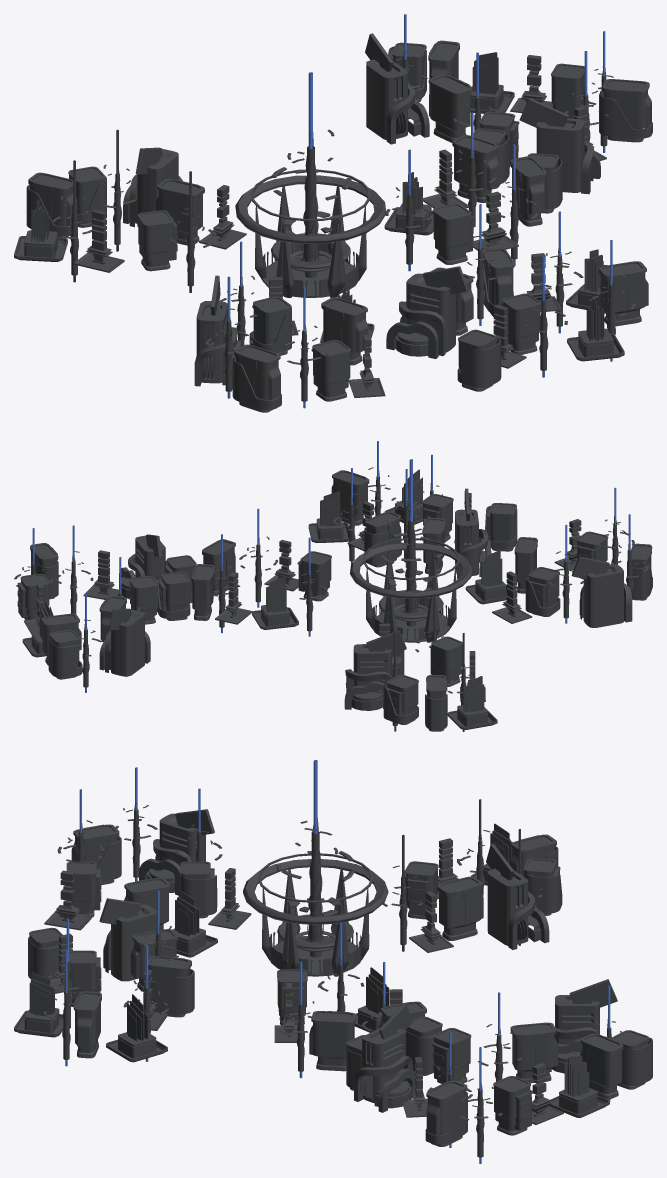
The picture shows the model from 3 angles, top to bottom: view 1: azimuth 30°, elevation 25°; view 2: azimuth 150°, elevation 25°; view 3: azimuth 270°, elevation 25°; orthographic projection. The views are drawn at different scales.
Visible parts, largest first — view 1: pasted__polySurface22 (×12), polySurface21 (×10), pCube4 (×5), building_6_low (×5), _outside_crcele, pasted__polySurface21 (×3), pasted__polySurface23 (×3), polySurface7 (×3), building_5, building_12, pCube5 (×2), building_15 (+13 smaller); view 2: polySurface21 (×12), pasted__polySurface22 (×11), pCube4 (×5), pasted__polySurface21 (×4), _outside_crcele, pasted__polySurface23 (×3), building_6_low (×3), building_12, building_14, building_13, building_11, pCube5 (×2) (+13 smaller); view 3: pasted__polySurface22 (×11), pCube4 (×5), polySurface21 (×8), pasted__polySurface23 (×5), building_6_low (×4), _outside_crcele, pCube5 (×4), pasted__polySurface21 (×3), polySurface22 (×3), building_15, building_5, building_13 (+15 smaller).
Part boxes in pixels (x1,y1,x2,y2): pasted__polySurface22 (×12): (28,40,651,412); polySurface21 (×10): (68,42,584,401); pCube4 (×5): (137,59,584,383); building_6_low (×5): (199,55,561,397); _outside_crcele: (235,175,386,244); pasted__polySurface21 (×3): (26,90,652,409); pasted__polySurface23 (×3): (249,158,562,387); polySurface7 (×3): (194,83,445,386); building_5: (567,298,624,361); building_12: (14,199,67,261); pCube5 (×2): (422,98,568,294); building_15: (470,52,514,113); polySurface21 (×12): (20,494,608,724); pasted__polySurface22 (×11): (30,470,652,731); pCube4 (×5): (111,509,623,692); pasted__polySurface21 (×4): (35,528,652,729); _outside_crcele: (350,543,472,598); pasted__polySurface23 (×3): (48,575,560,723); building_6_low (×3): (24,519,581,634); building_12: (447,676,497,729); building_14: (252,576,298,629); building_13: (308,491,349,542); building_11: (465,550,507,604); pCube5 (×2): (366,556,609,654); pasted__polySurface22 (×11): (71,824,623,1146); pCube4 (×5): (111,813,599,1103); polySurface21 (×8): (66,861,649,1135); pasted__polySurface23 (×5): (28,871,652,1085); building_6_low (×4): (44,870,563,1124); _outside_crcele: (243,859,388,924); pCube5 (×4): (99,809,617,1039); pasted__polySurface21 (×3): (96,836,467,1144); polySurface22 (×3): (407,875,533,1130); building_15: (548,1056,609,1117); building_5: (14,972,70,1037); building_13: (106,994,167,1062).
Bounding box in the file's own units: 30961 × 11468 × 29504.
